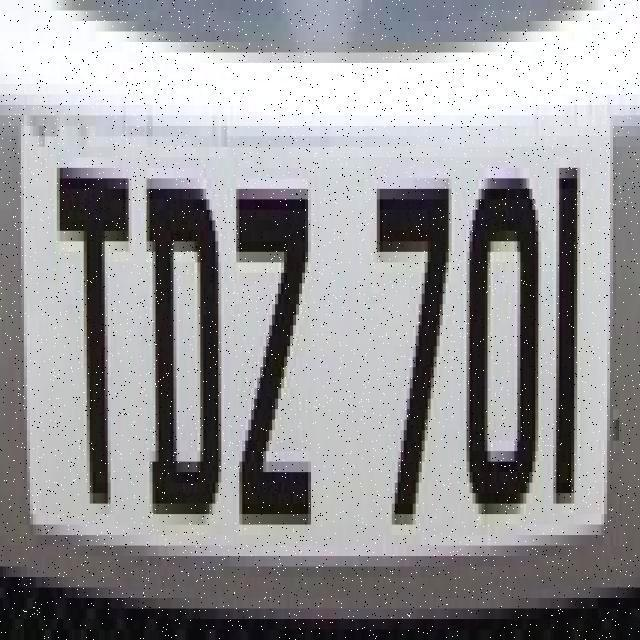LicensePlate: (14, 7, 630, 592)
